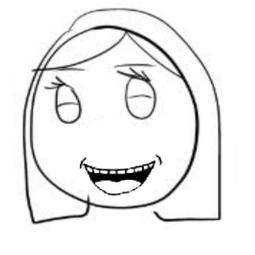eye: (41, 75, 90, 128), (121, 68, 159, 127)
eyebrow: (110, 59, 154, 70), (56, 66, 88, 73)
open_mouth: (76, 149, 166, 198)
